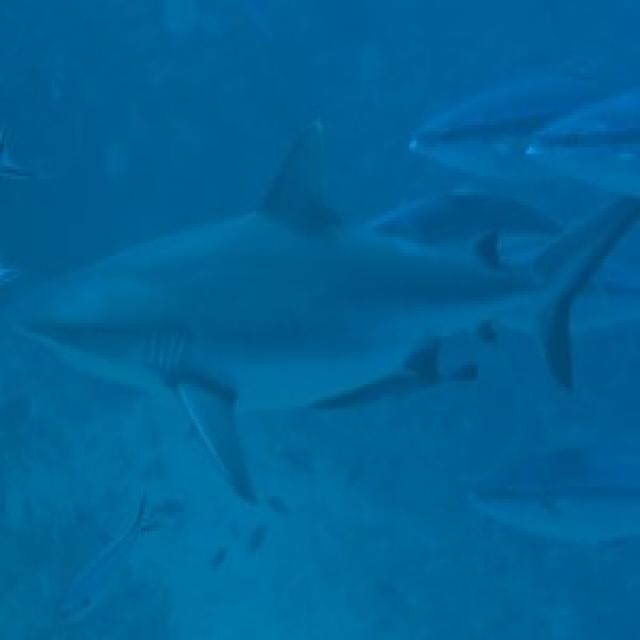Shark: (2, 128, 640, 467), (406, 91, 519, 171), (530, 110, 640, 192)
